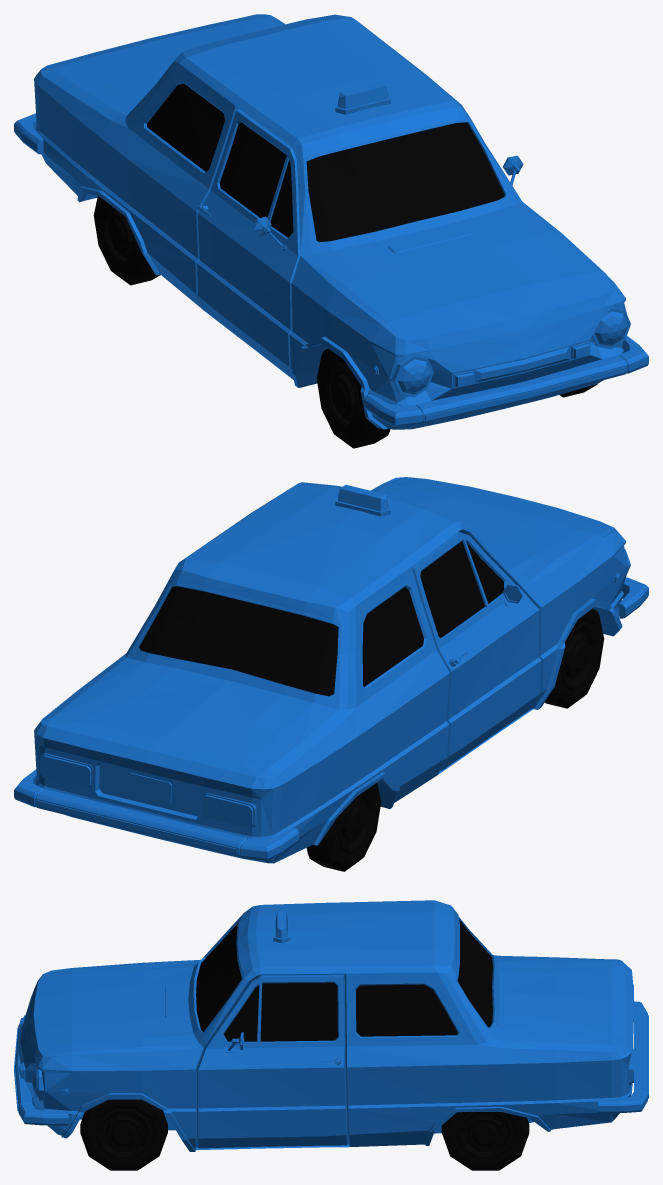
File: HALF_taxi.fbx
3 views of the same model, one above another, from view 1: azimuth 30°, elevation 25°; view 2: azimuth 150°, elevation 25°; view 3: azimuth 270°, elevation 25° (orthographic). The views are drawn at different scales.
Parts seen in each view (by area): view 1: Symmetry_1, Cylinder_6, Cylinder_11; view 2: Symmetry_1, Cylinder_11, Cylinder_6; view 3: Symmetry_1, Cylinder_5, Cylinder_11.
Part boxes in pixels (x1=…): Symmetry_1: x1=14, y1=14, x2=648, y2=429; Cylinder_6: x1=316, y1=348, x2=390, y2=448; Cylinder_11: x1=93, y1=196, x2=160, y2=285; Symmetry_1: x1=14, y1=477, x2=648, y2=863; Cylinder_11: x1=306, y1=783, x2=381, y2=871; Cylinder_6: x1=545, y1=608, x2=604, y2=708; Symmetry_1: x1=14, y1=900, x2=648, y2=1151; Cylinder_5: x1=80, y1=1099, x2=167, y2=1170; Cylinder_11: x1=441, y1=1112, x2=529, y2=1170.
Bounding box in the file's own units: 182 × 163 × 456.
